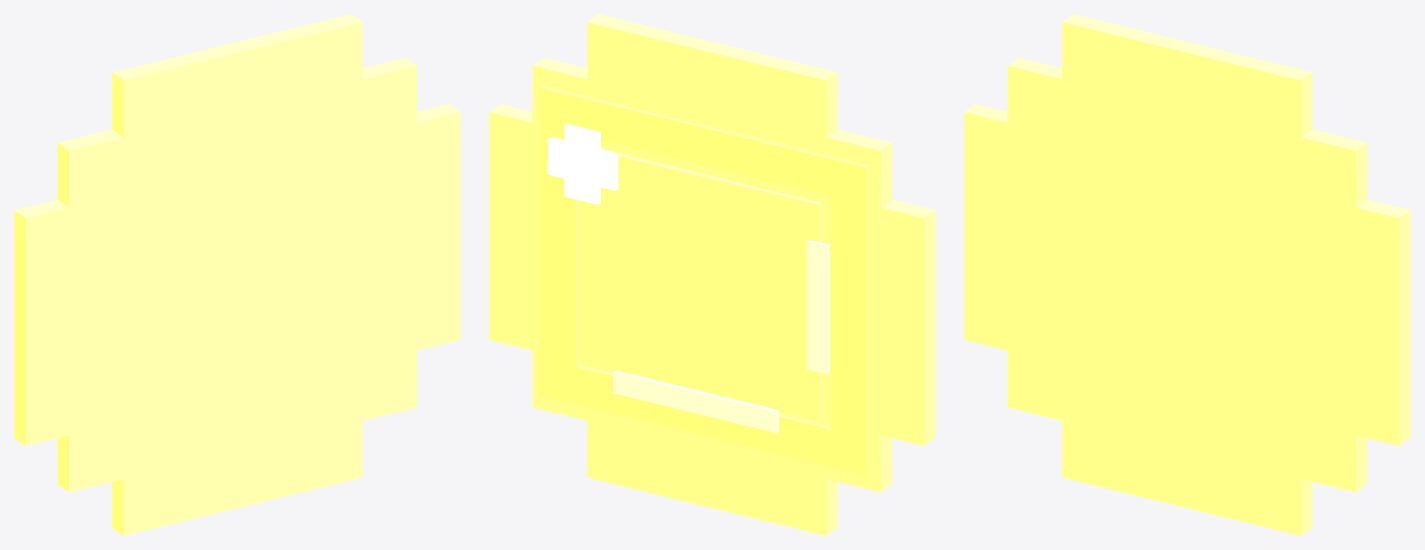
Rendered from moonpost_coin.glb.
The picture shows the model from 3 angles, left to right: view 1: azimuth 30°, elevation 25°; view 2: azimuth 150°, elevation 25°; view 3: azimuth 330°, elevation 25°; orthographic projection.
Visible parts, largest first — view 1: Moonpost Flat Pixel Coin Reference; view 2: Moonpost Flat Pixel Coin Reference; view 3: Moonpost Flat Pixel Coin Reference.
Boxes of the visible parts, x1,y1,x2,y2 form: Moonpost Flat Pixel Coin Reference: (14, 14, 460, 535); Moonpost Flat Pixel Coin Reference: (489, 14, 935, 535); Moonpost Flat Pixel Coin Reference: (964, 14, 1410, 535).
Size of the model in its own units: 0.4 by 0.4 by 0.0335.
